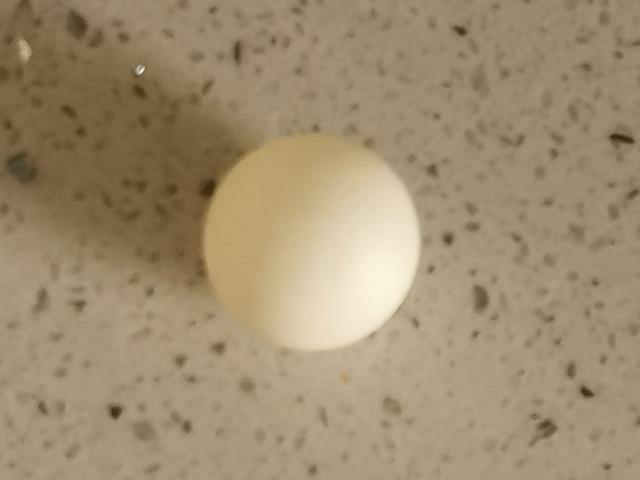ball: (203, 137, 419, 353)
